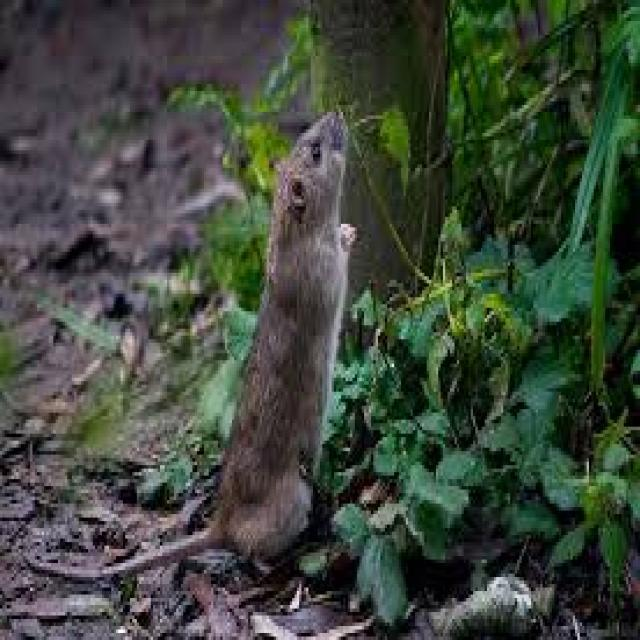Rat: (201, 83, 371, 601)
